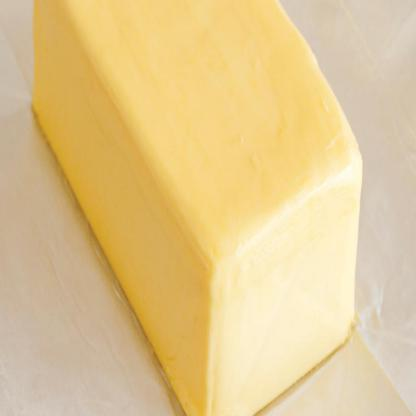butter: (32, 0, 360, 415)
